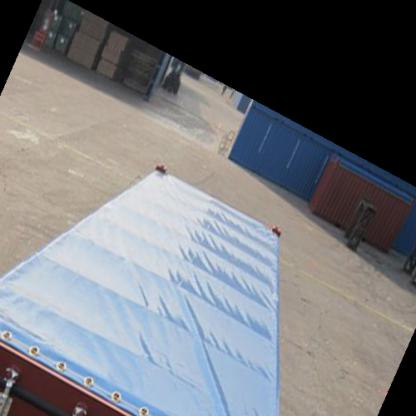Damage: (182, 284, 219, 351), (132, 267, 154, 311)
